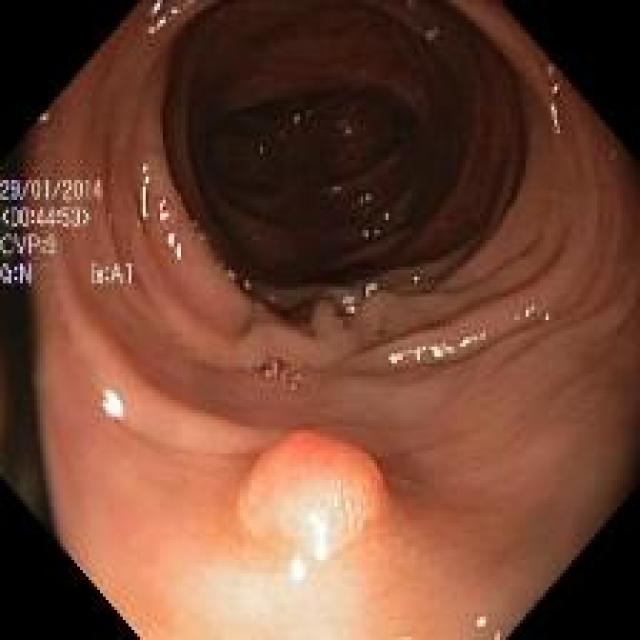Polyps: (239, 432, 388, 562)
